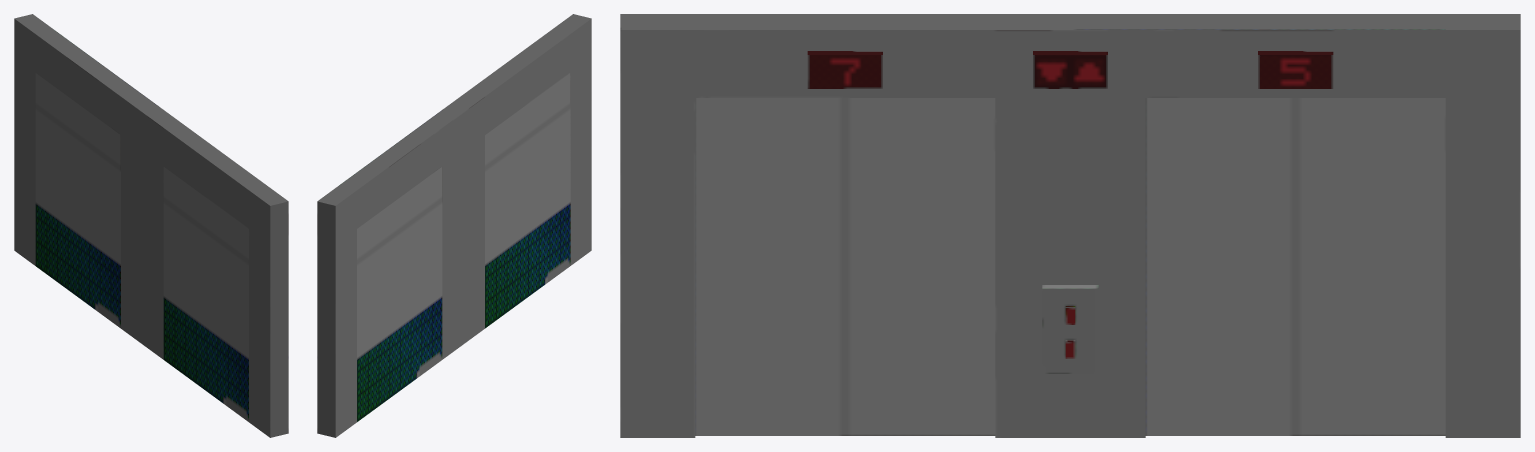
The model's file is elevator.fbx.
3 renders of one model, left to right at view 1: azimuth 30°, elevation 25°; view 2: azimuth 150°, elevation 25°; view 3: azimuth 270°, elevation 25°, orthographic. The views are drawn at different scales.
Visible parts, largest first — view 1: Cube; view 2: Cube; view 3: Cube.
Boxes of the visible parts, left/top/right/bottom form: Cube: left=14, top=14, right=288, bottom=437; Cube: left=317, top=14, right=591, bottom=437; Cube: left=620, top=14, right=1520, bottom=437.
Size of the model in its own units: 68.75 by 600 by 1200.
